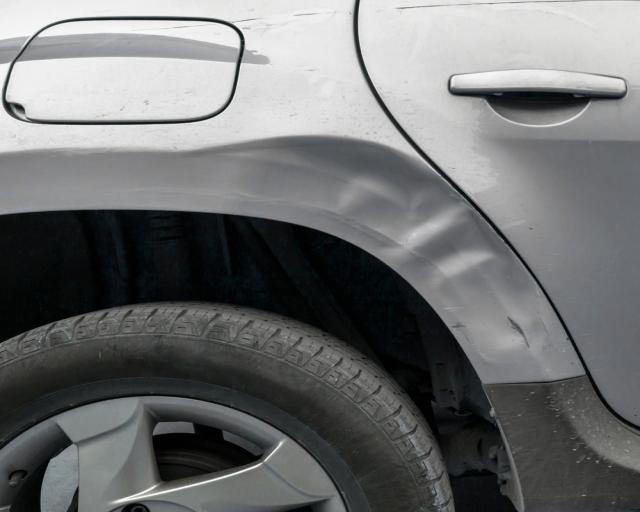dent: (184, 138, 541, 365)
